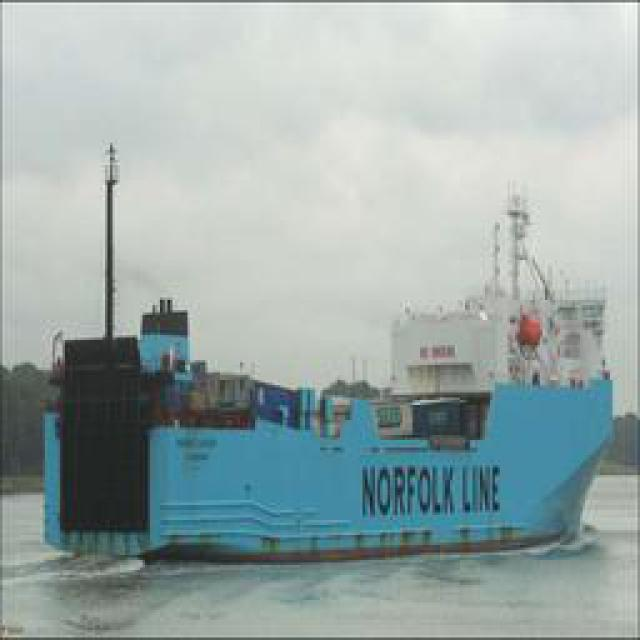Ship: (30, 134, 618, 566)
